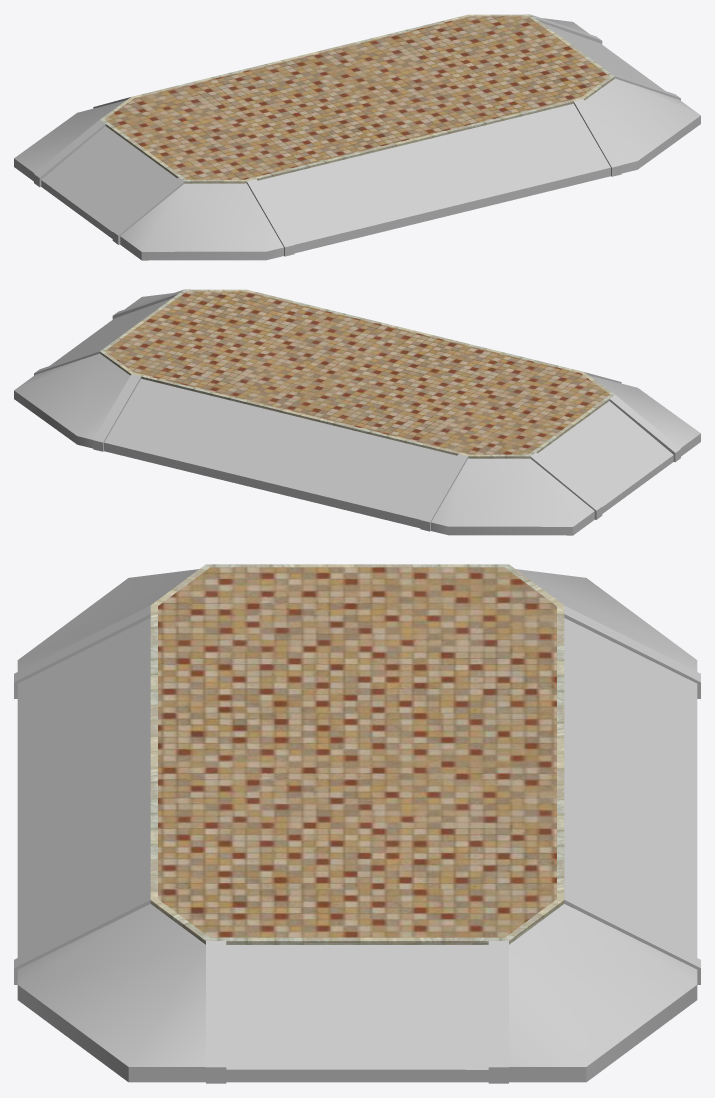
The model's file is parts_base_03.fbx.
The picture shows the model from 3 angles, top to bottom: view 1: azimuth 30°, elevation 25°; view 2: azimuth 150°, elevation 25°; view 3: azimuth 270°, elevation 25°; orthographic projection. The views are drawn at different scales.
Parts seen in each view (by area): view 1: parts_base_03; view 2: parts_base_03; view 3: parts_base_03.
Boxes of the visible parts, <box> form: parts_base_03: <box>14,14,700,260</box>; parts_base_03: <box>14,289,700,535</box>; parts_base_03: <box>14,564,700,1083</box>.
Bounding box in the file's own units: 33.38 × 2.7 × 19.69.
